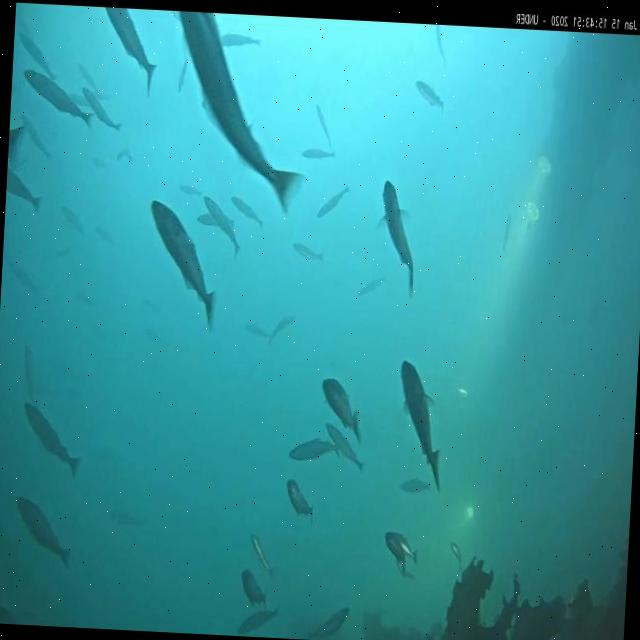fish: (172, 12, 312, 215), (144, 200, 220, 328), (392, 360, 447, 490), (100, 6, 160, 100), (20, 402, 86, 478), (376, 180, 418, 294), (20, 70, 95, 128), (12, 498, 74, 566), (319, 378, 362, 434), (201, 198, 242, 255), (17, 31, 58, 81), (322, 426, 366, 472), (80, 87, 123, 133), (6, 170, 42, 216), (18, 116, 54, 159), (238, 606, 280, 638), (286, 479, 316, 521), (316, 602, 348, 640), (288, 438, 339, 461), (315, 185, 350, 218), (414, 78, 446, 114), (381, 532, 406, 574), (229, 197, 265, 226), (390, 532, 420, 563), (23, 344, 38, 405), (248, 536, 273, 572), (242, 574, 269, 606), (314, 106, 332, 145), (76, 66, 100, 95), (270, 315, 294, 344), (111, 508, 142, 528), (61, 208, 84, 234), (292, 244, 324, 262), (219, 34, 260, 48), (196, 210, 234, 224), (434, 26, 446, 67), (358, 278, 378, 299), (502, 213, 512, 250), (302, 148, 334, 158), (178, 58, 188, 90), (116, 146, 132, 165), (246, 324, 270, 336), (178, 184, 202, 195), (452, 544, 462, 568)
